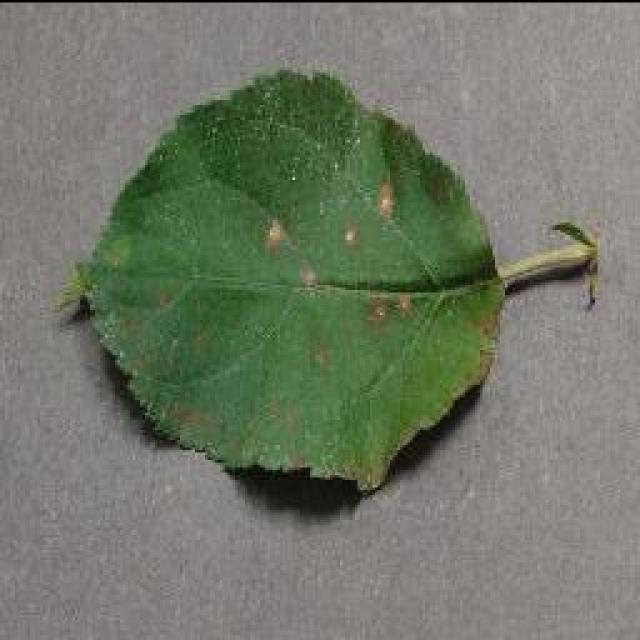apple cedar apple rust: (55, 65, 600, 495)
